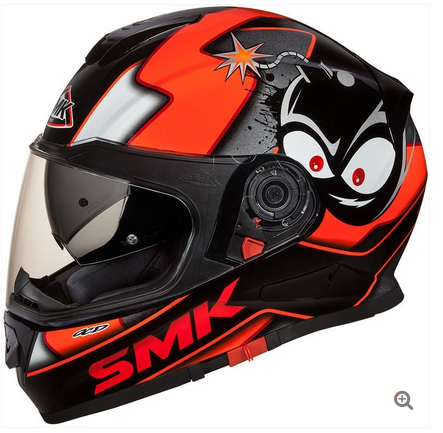with_helmet: (3, 3, 436, 427)
